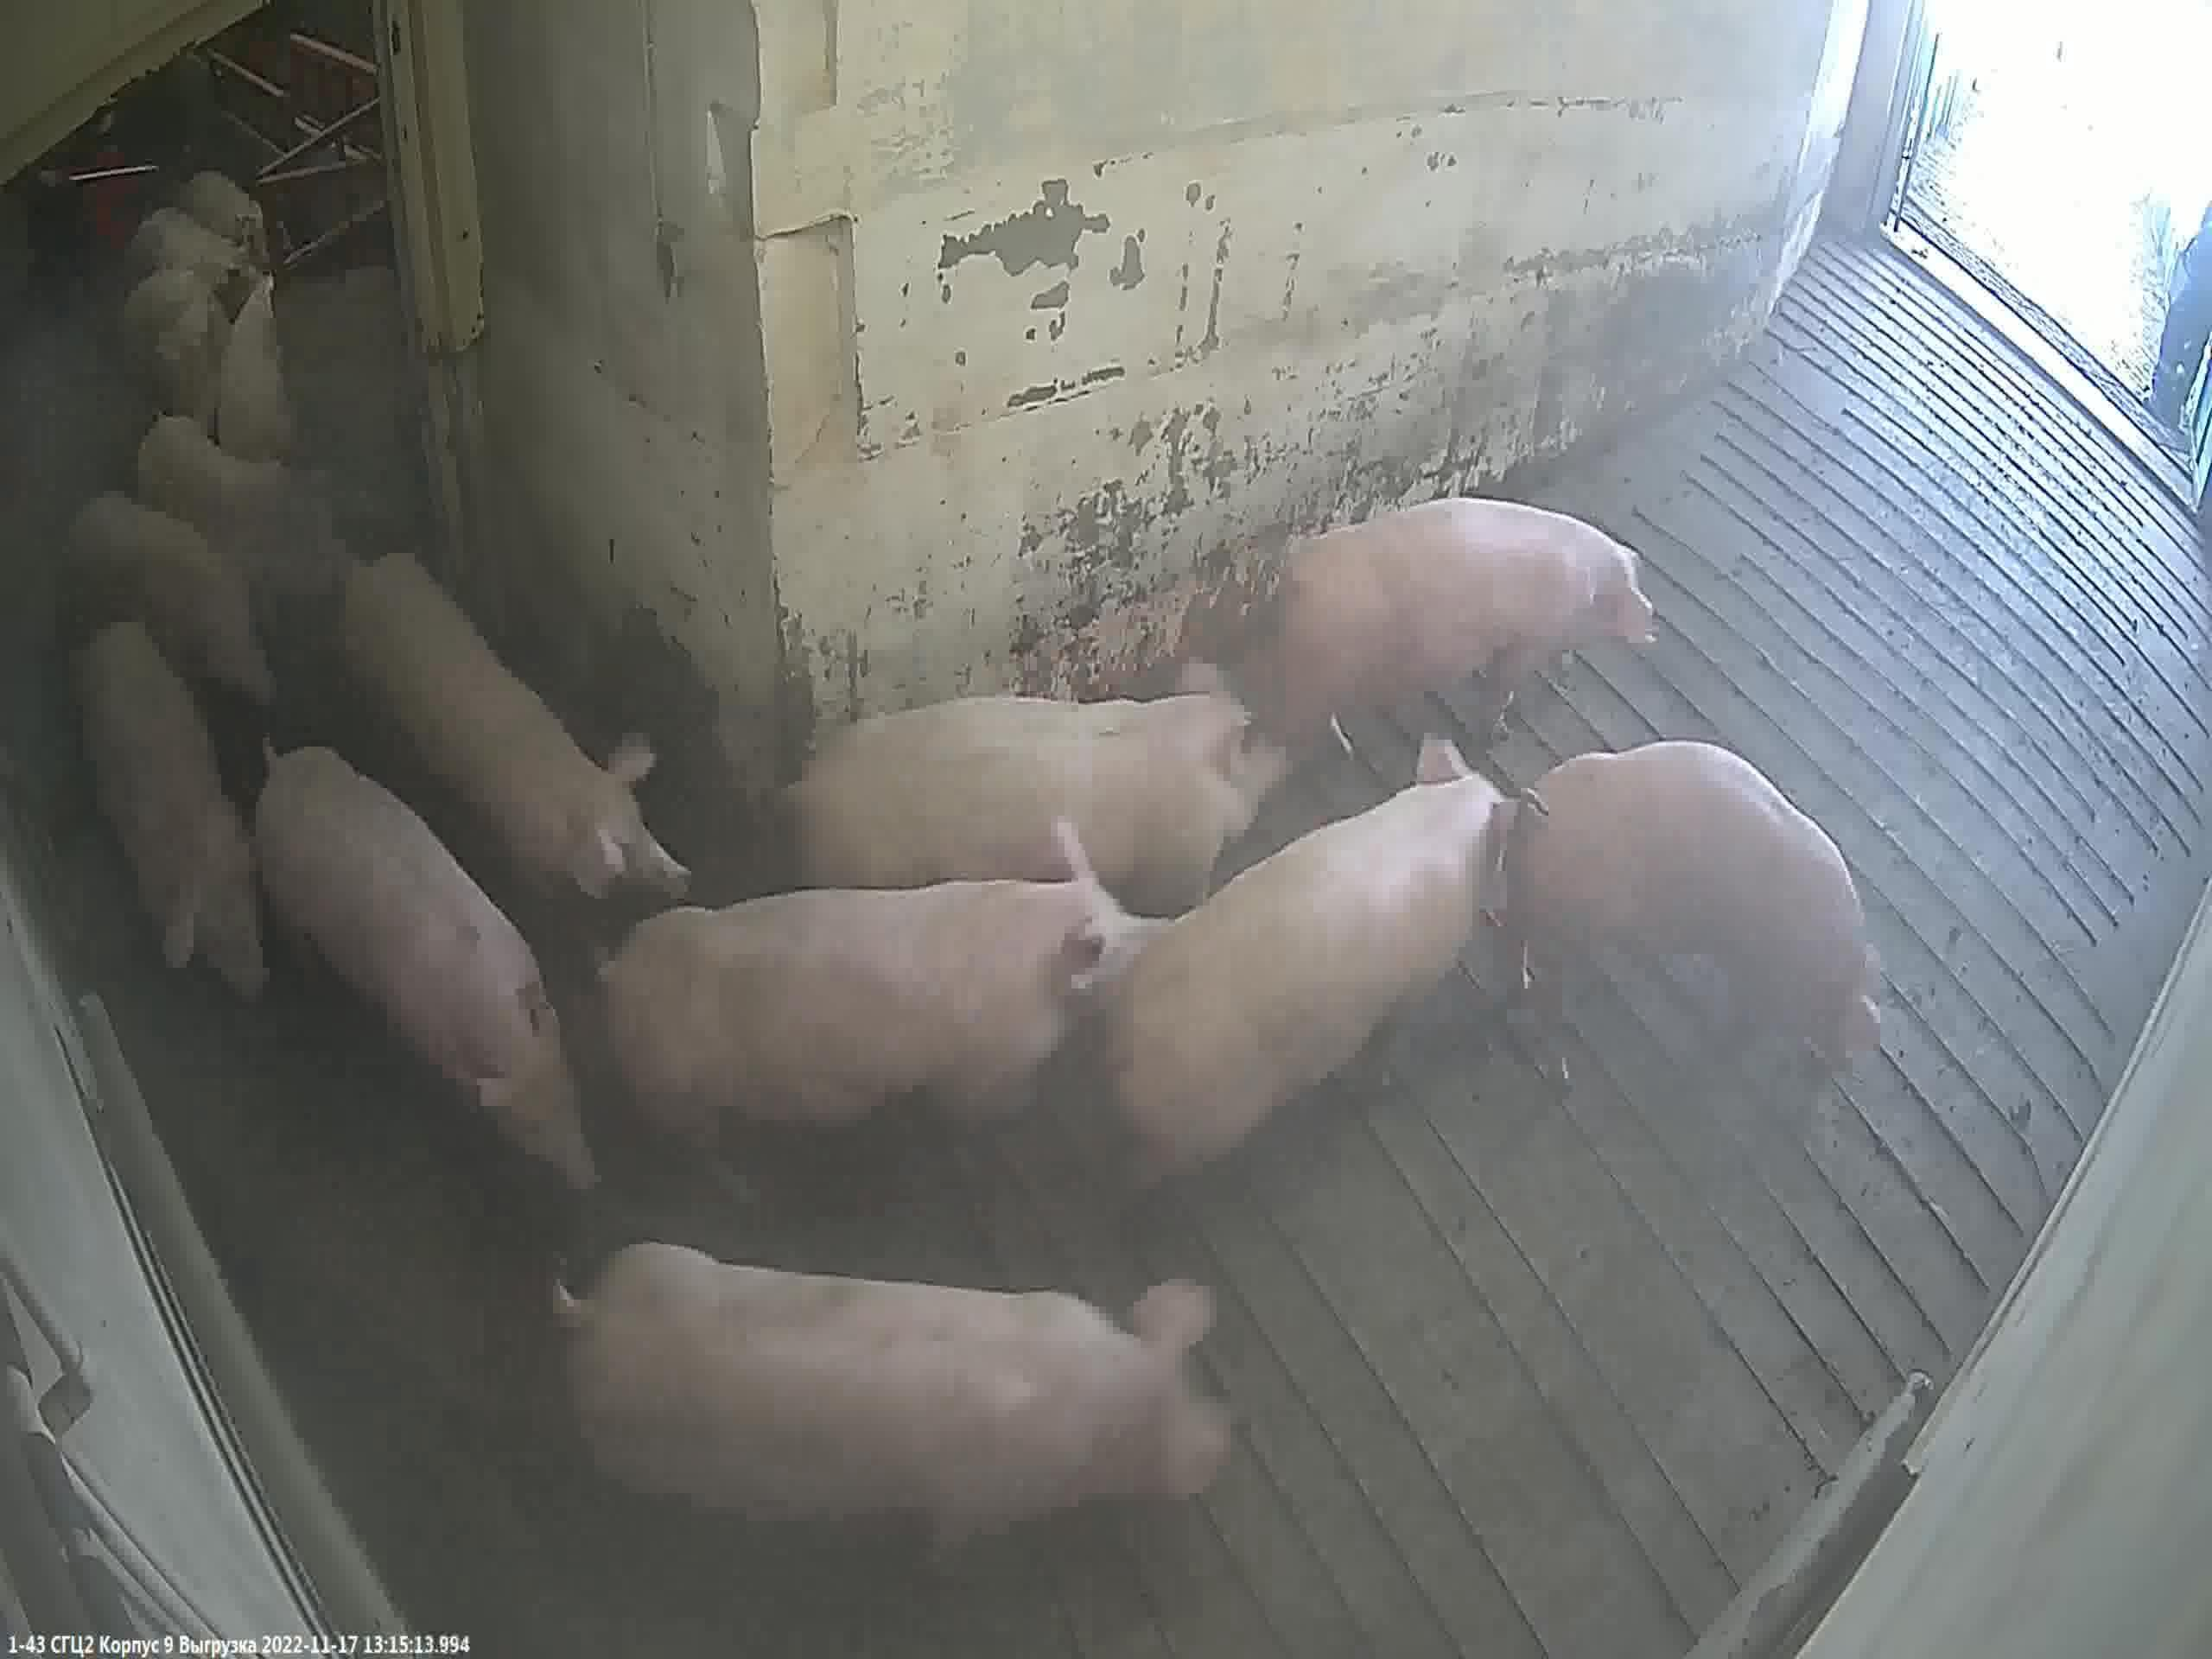Pigs: (549, 1243, 1240, 1560), (1082, 767, 1515, 1239), (601, 863, 1162, 1180), (247, 746, 599, 1201), (333, 551, 700, 964), (1249, 502, 1660, 840), (779, 669, 1284, 931), (1529, 741, 1879, 1070), (70, 622, 272, 1007), (70, 497, 273, 721)
